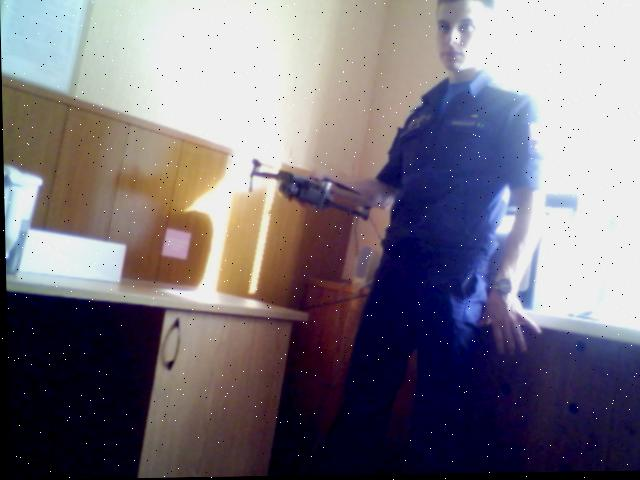drone: (234, 148, 381, 235)
